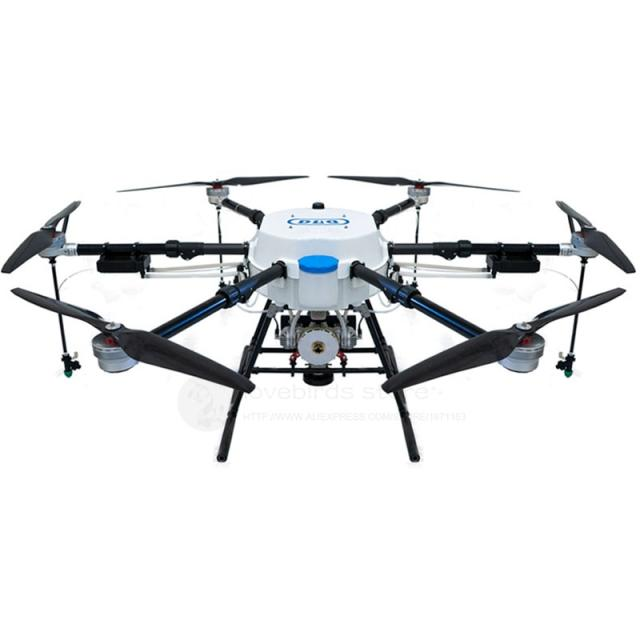drone: (4, 159, 639, 453)
